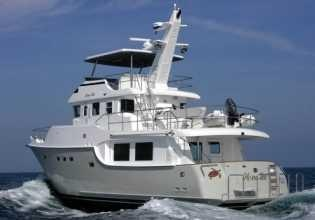yacht: (26, 5, 292, 202)
